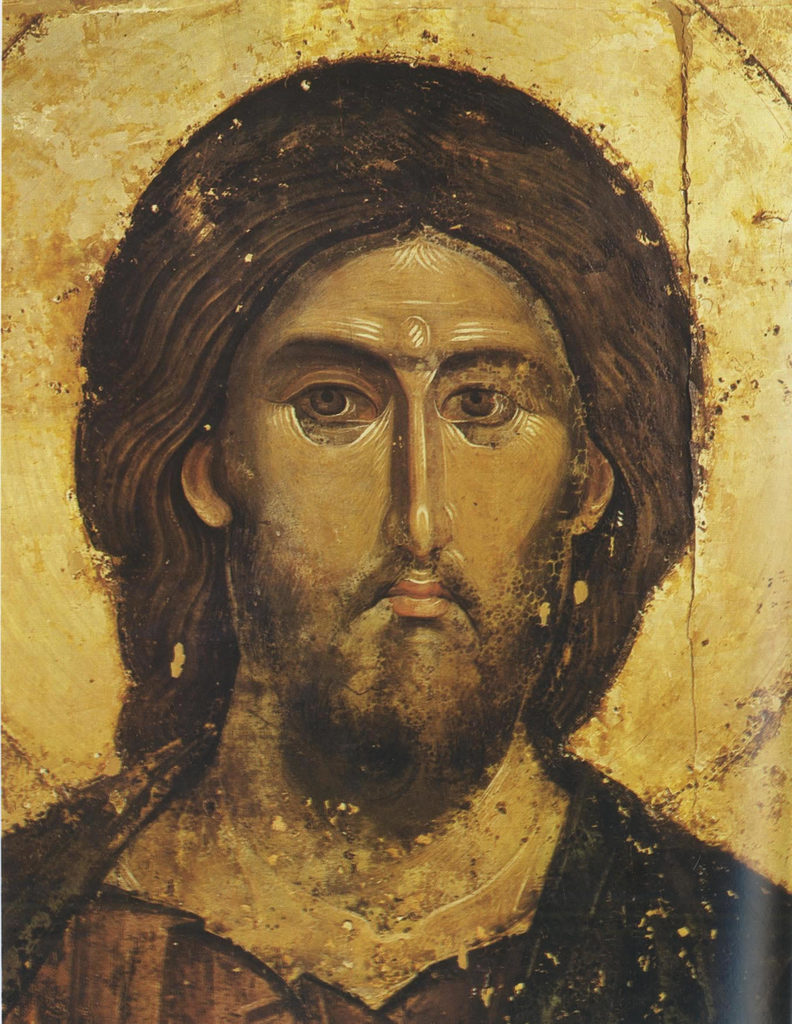face: (248, 159, 558, 688)
